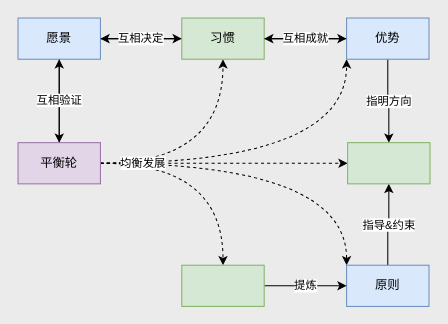
This 448x324 diagram has some shape labels left out. Each missing label, with the centre of its shape:
情绪: the point at 222,285
目标: the point at 388,163
